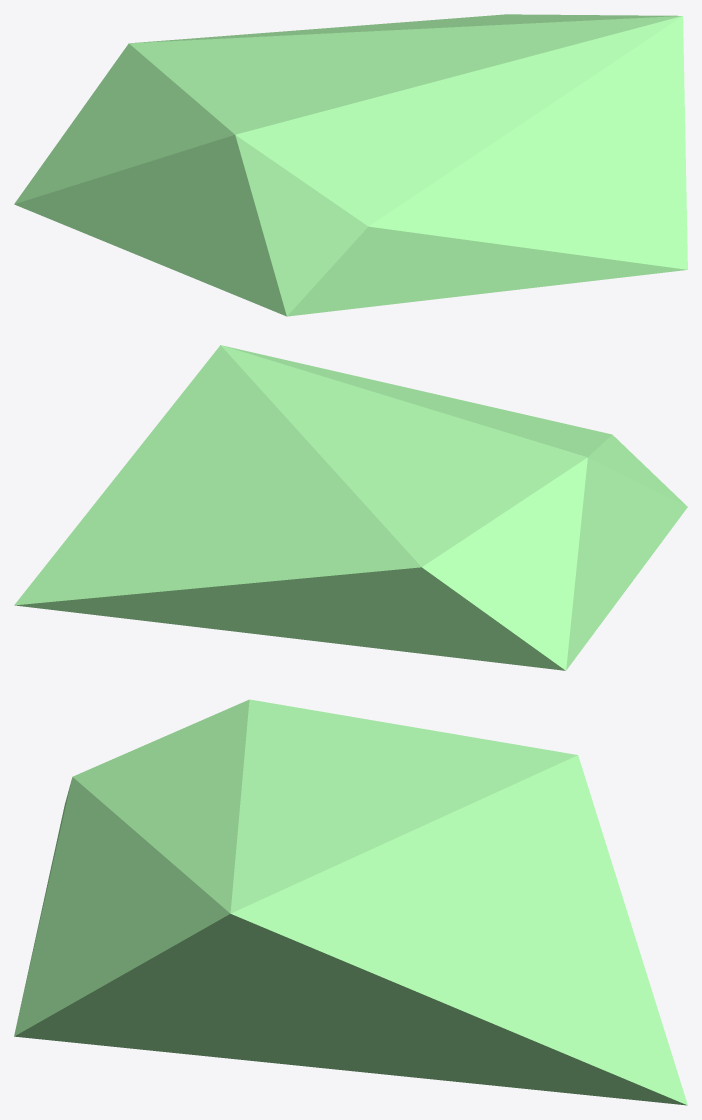
File: dvkr_robot_L3_respondable_ECM_coll_10.dae
3 renders of one model, top to bottom at view 1: azimuth 30°, elevation 25°; view 2: azimuth 150°, elevation 25°; view 3: azimuth 270°, elevation 25°, orthographic. The views are drawn at different scales.
Parts seen in each view (by area): view 1: Node_0000023514CD9BB0; view 2: Node_0000023514CD9BB0; view 3: Node_0000023514CD9BB0.
Part boxes in pixels (bbox=[...]): Node_0000023514CD9BB0: bbox=[14, 14, 687, 316]; Node_0000023514CD9BB0: bbox=[14, 345, 687, 670]; Node_0000023514CD9BB0: bbox=[14, 699, 687, 1105].
Size of the model in its own units: 0.0302 by 0.0081 by 0.0284.
